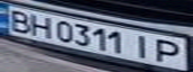0: (51, 18, 75, 44)
1: (87, 25, 109, 53), (106, 27, 127, 55)
3: (69, 21, 93, 47)
B: (3, 7, 36, 34)
H: (27, 11, 57, 38)
I: (130, 33, 157, 60)
P: (151, 37, 190, 64)
